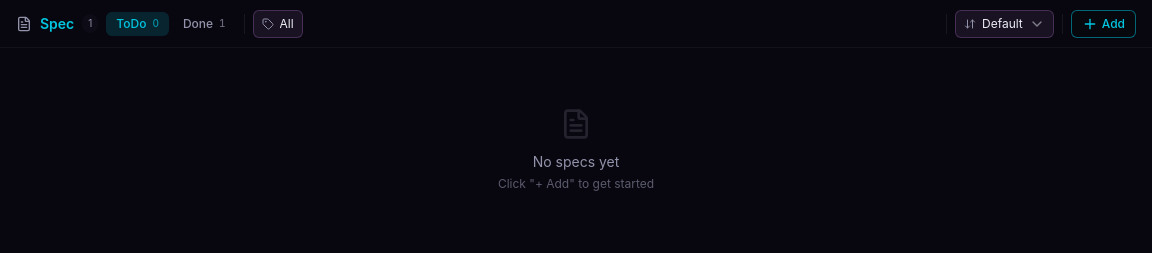
SpecsBoard ToDo / Done tabs › renders the Done bucket using the general view tier, with no per-Done controls
Step 1. Click the tab with test id "specs-tab-done" → click(204, 24), box [173,12,236,36]
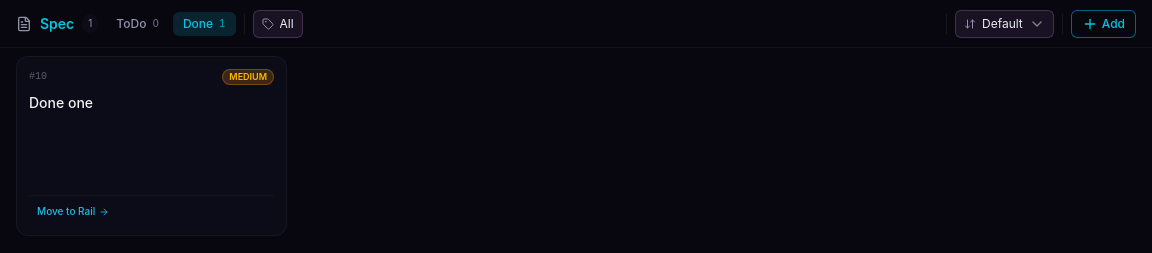
Now the element with test id "specs-board-done-postit-grid" is shown, box [16,56,287,236]
